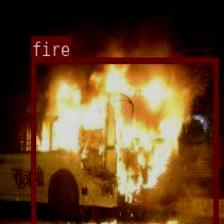fire: (30, 56, 217, 224)
